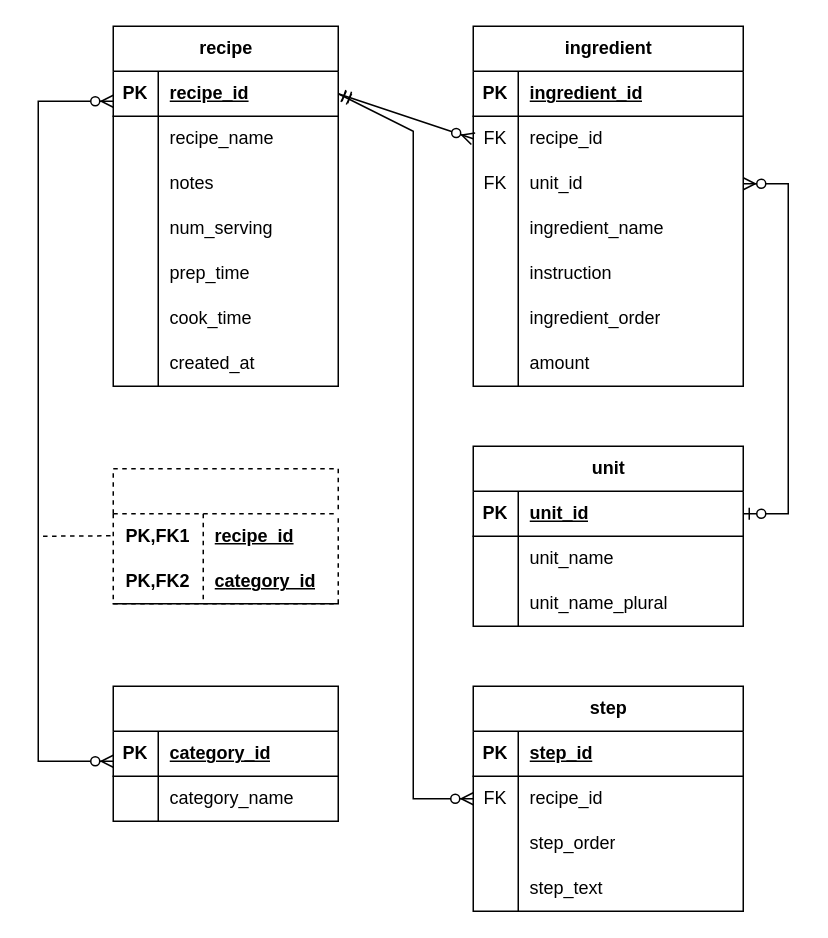
Image size: 828x938. Some labels were removed from this diagram. The shapes that lost their labels are listed below. From the top down, each one's box as (x1, y1, x2, y2) in pixels, then its label:
(112, 467, 338, 604): recipe_category
(112, 685, 338, 821): category_table
